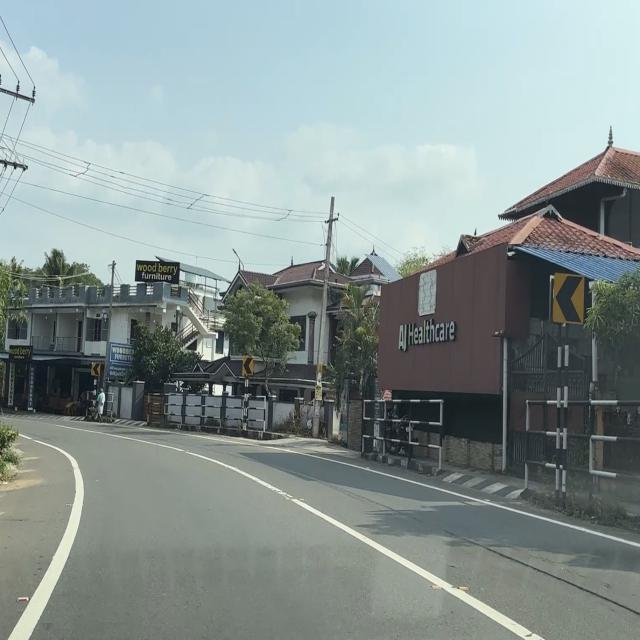TURN_LEFT: (552, 272, 586, 324), (242, 356, 254, 376), (92, 362, 101, 376)
